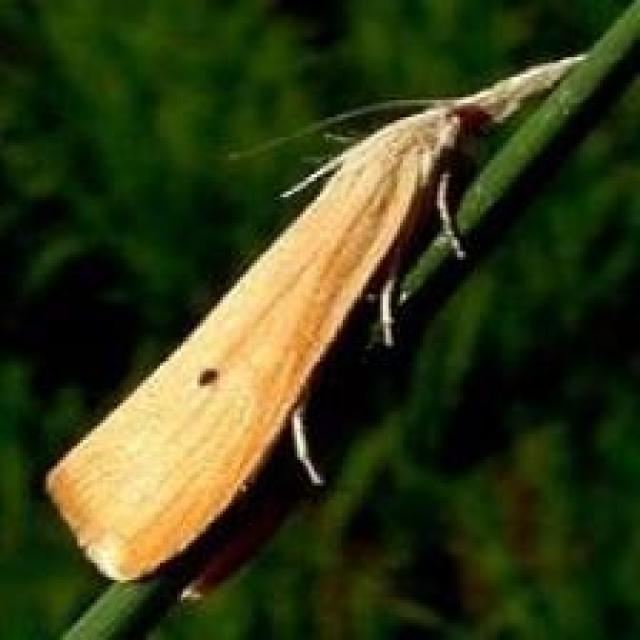yellow-stem-borer: (51, 34, 604, 568)
